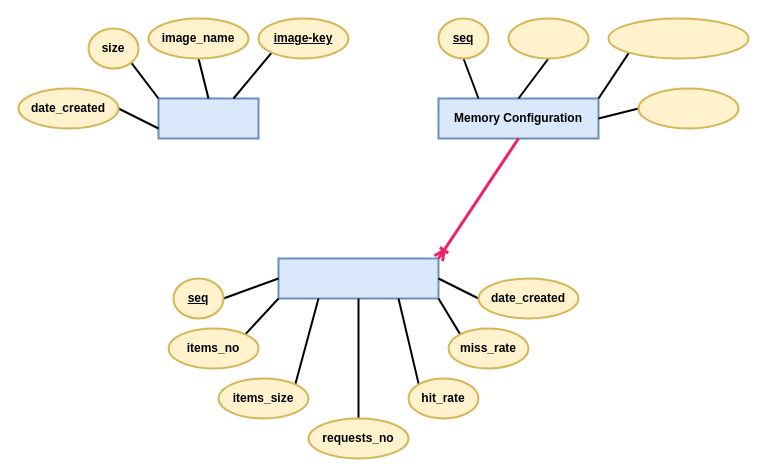
Some shapes in this 766 by 476 pixel diagram are drawn without their labels. The shapes that lost their labels are listed below. From the top down, each one's box as (x1, y1, x2, y2) in pixels, then its label:
(507, 17, 589, 59): capacity
(607, 17, 749, 59): replacement_policy
(157, 97, 259, 139): Image
(637, 87, 739, 129): clear_cache
(277, 257, 439, 299): Memory Statistics
